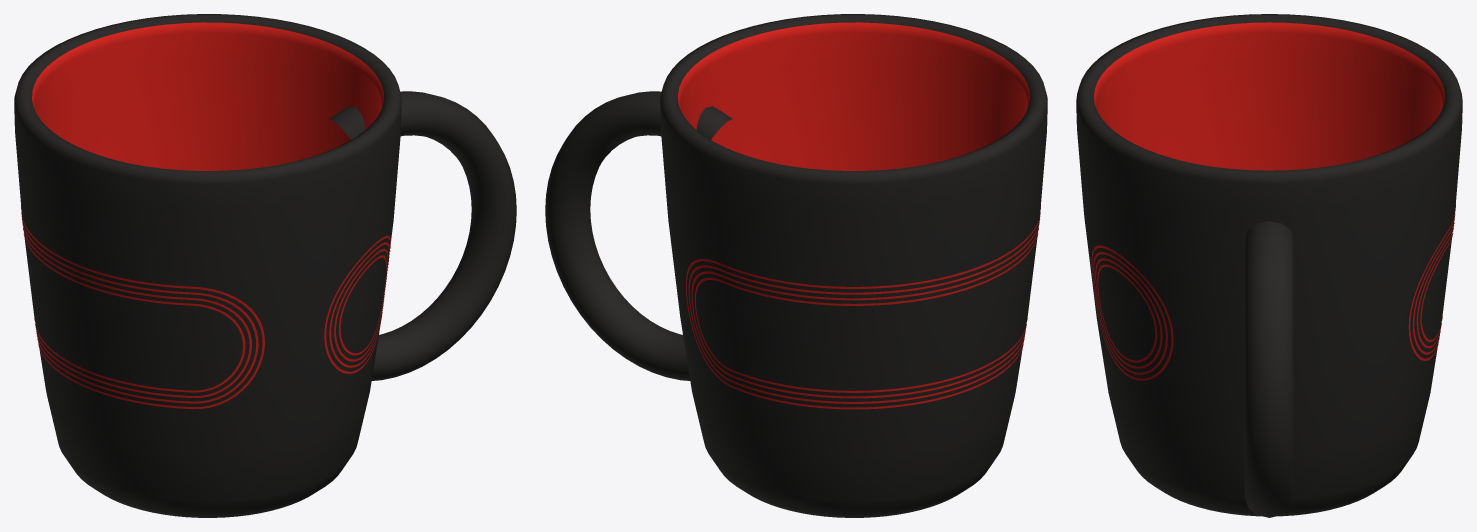
Rendered from dragon_mug_red.glb.
3 views of the same model, side by side, from view 1: azimuth 30°, elevation 25°; view 2: azimuth 150°, elevation 25°; view 3: azimuth 270°, elevation 25° (orthographic).
Parts seen in each view (by area): view 1: DRAGON_MUG_RED; view 2: DRAGON_MUG_RED; view 3: DRAGON_MUG_RED.
Part boxes in pixels (bbox=[...]): DRAGON_MUG_RED: bbox=[14, 14, 516, 517]; DRAGON_MUG_RED: bbox=[545, 14, 1047, 517]; DRAGON_MUG_RED: bbox=[1076, 14, 1462, 517].
Bounding box in the file's own units: 0.138 × 0.105 × 0.098.
